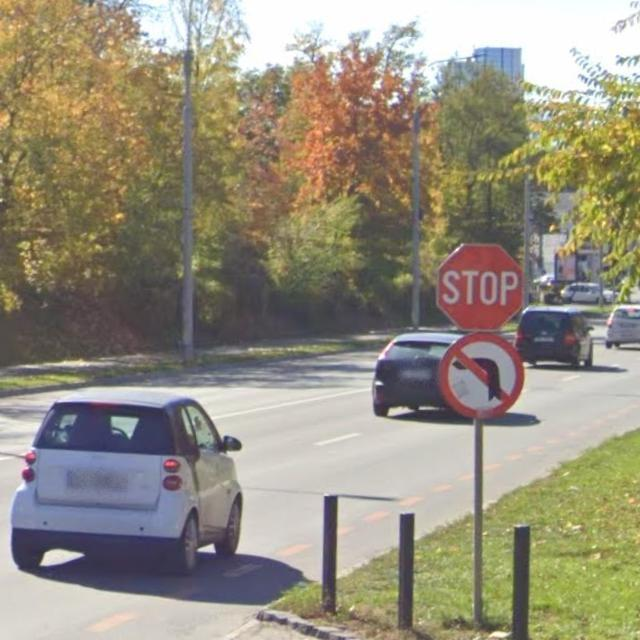prio_stop: (436, 242, 524, 334)
